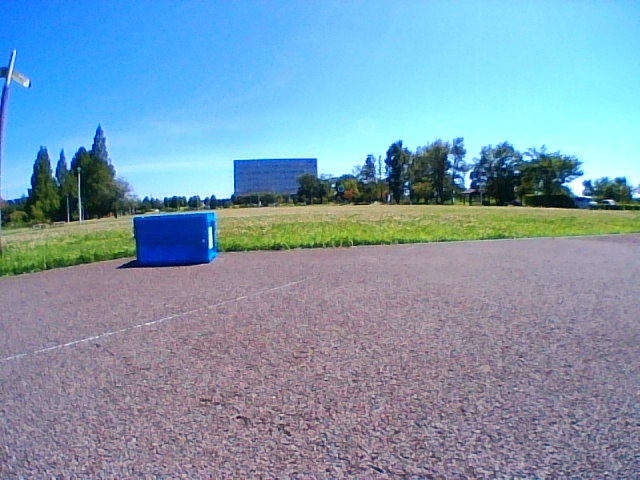blue_box: (133, 212, 217, 264)
tag: (208, 228, 213, 248)
